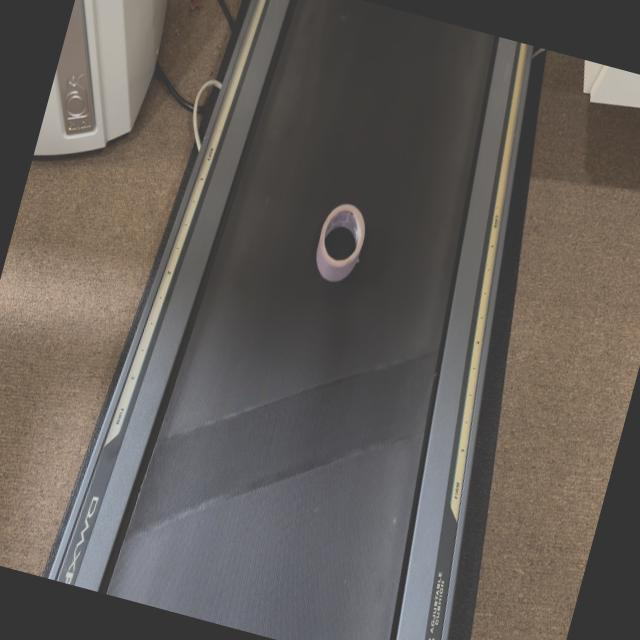Trash: (308, 196, 373, 286)
